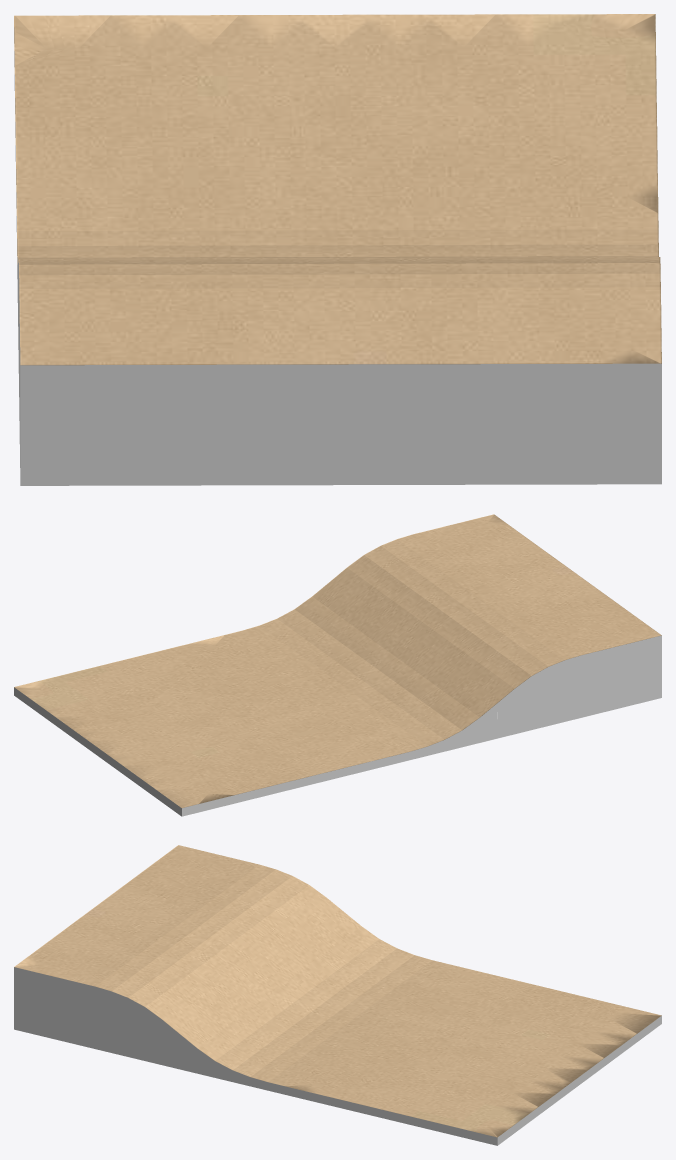
File: bridge 1.glb
The picture shows the model from 3 angles, top to bottom: view 1: azimuth 30°, elevation 25°; view 2: azimuth 150°, elevation 25°; view 3: azimuth 270°, elevation 25°; orthographic projection. The views are drawn at different scales.
Parts seen in each view (by area): view 1: Bridge; view 2: Bridge; view 3: Bridge.
Boxes of the visible parts, bbox=[...] form: Bridge: bbox=[14, 14, 661, 485]; Bridge: bbox=[14, 514, 661, 816]; Bridge: bbox=[14, 845, 661, 1145].
Bounding box in the file's own units: 146 × 17.84 × 168.
Materials: 2 (1 with a texture image).
